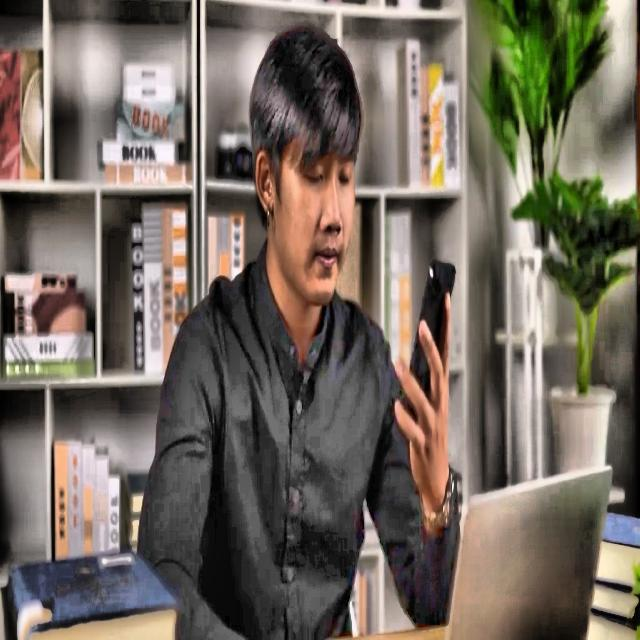Phone: (404, 258, 458, 428)
